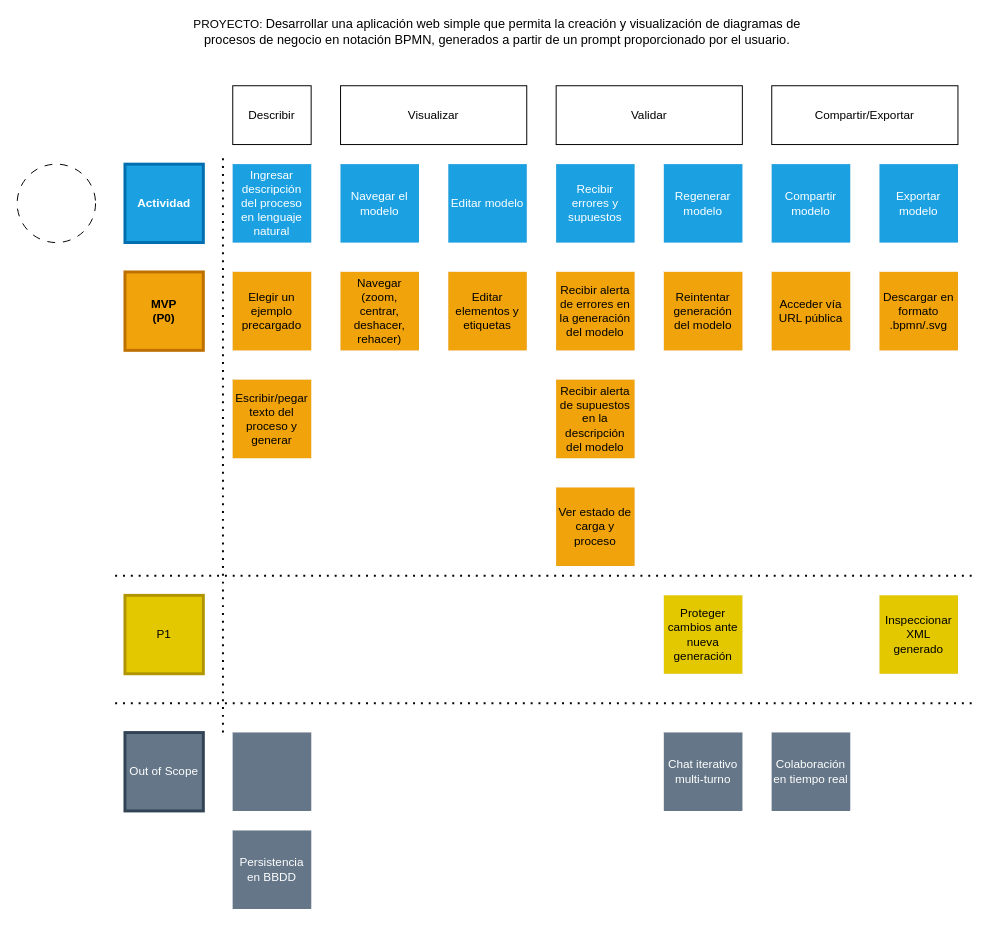
Image size: 997x926. Some labels were removed from this diagram. The box of each missing label's shape, as (x1, y1, x2, y2) in pixels:
Analista de Proceso: (16, 163, 96, 243)
Autenticación: (232, 732, 311, 810)
